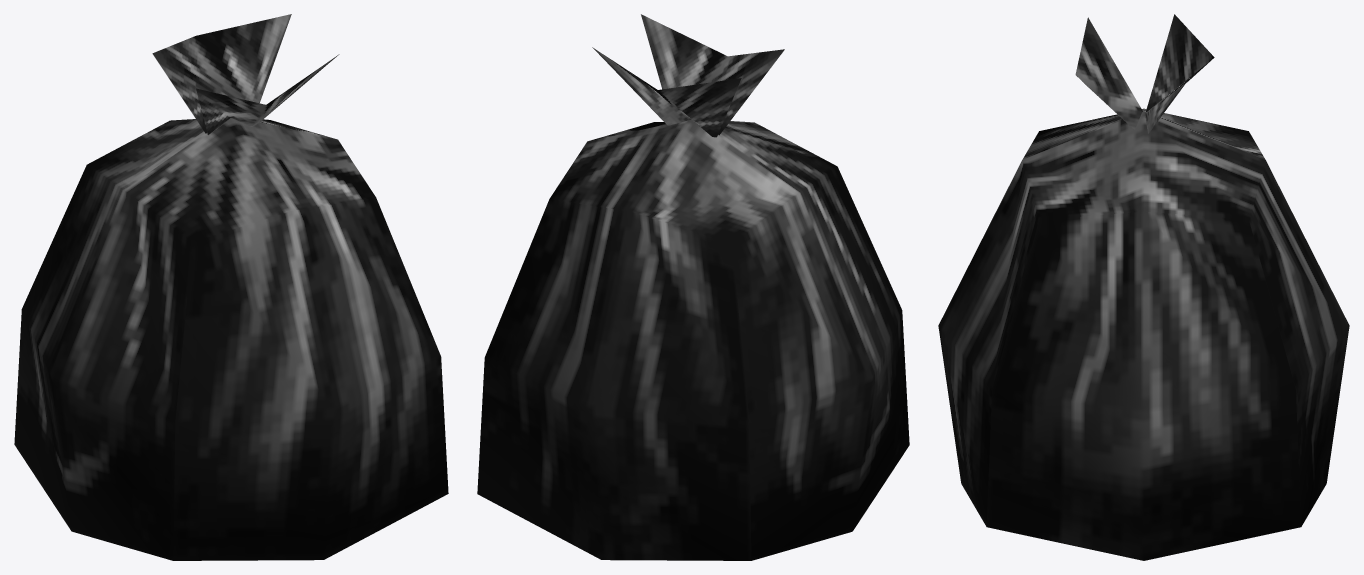
Rendered from Retro PSX Trash bag A.fbx.
3 views of the same model, side by side, from view 1: azimuth 30°, elevation 25°; view 2: azimuth 150°, elevation 25°; view 3: azimuth 270°, elevation 25° (orthographic).
Parts seen in each view (by area): view 1: Cube, Plane; view 2: Cube, Plane; view 3: Cube, Plane.
Part boxes in pixels (bbox=[...]): Cube: bbox=[14, 118, 448, 560]; Plane: bbox=[152, 14, 339, 134]; Cube: bbox=[477, 119, 909, 560]; Plane: bbox=[592, 14, 784, 137]; Cube: bbox=[938, 108, 1349, 560]; Plane: bbox=[1075, 14, 1214, 133].
Bounding box in the file's own units: 45.57 × 57.92 × 45.57.
2 materials, 2 textured.
